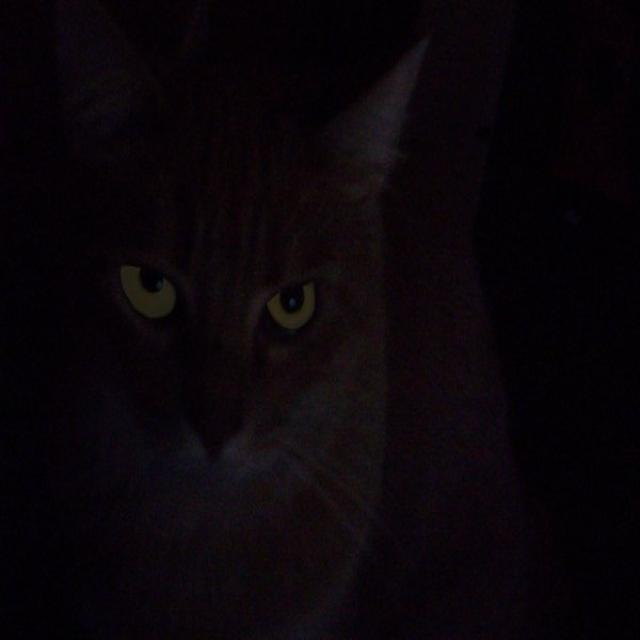Cat: (24, 16, 438, 640)
